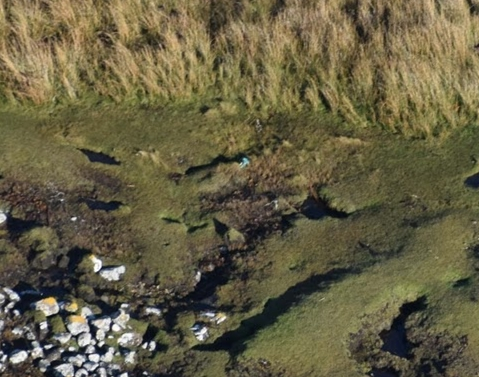white_in_green: (225, 145, 267, 177)
